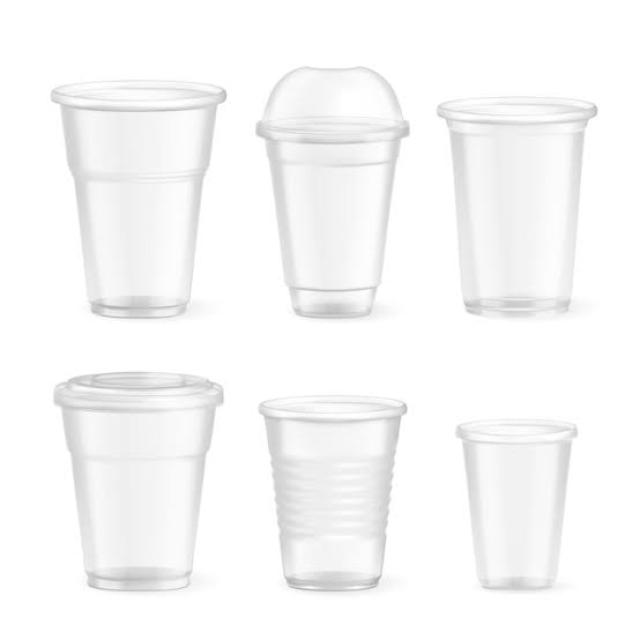plastic: (42, 64, 240, 326), (37, 350, 237, 601), (250, 61, 420, 328), (433, 89, 611, 330), (246, 376, 422, 604), (448, 412, 596, 596)
